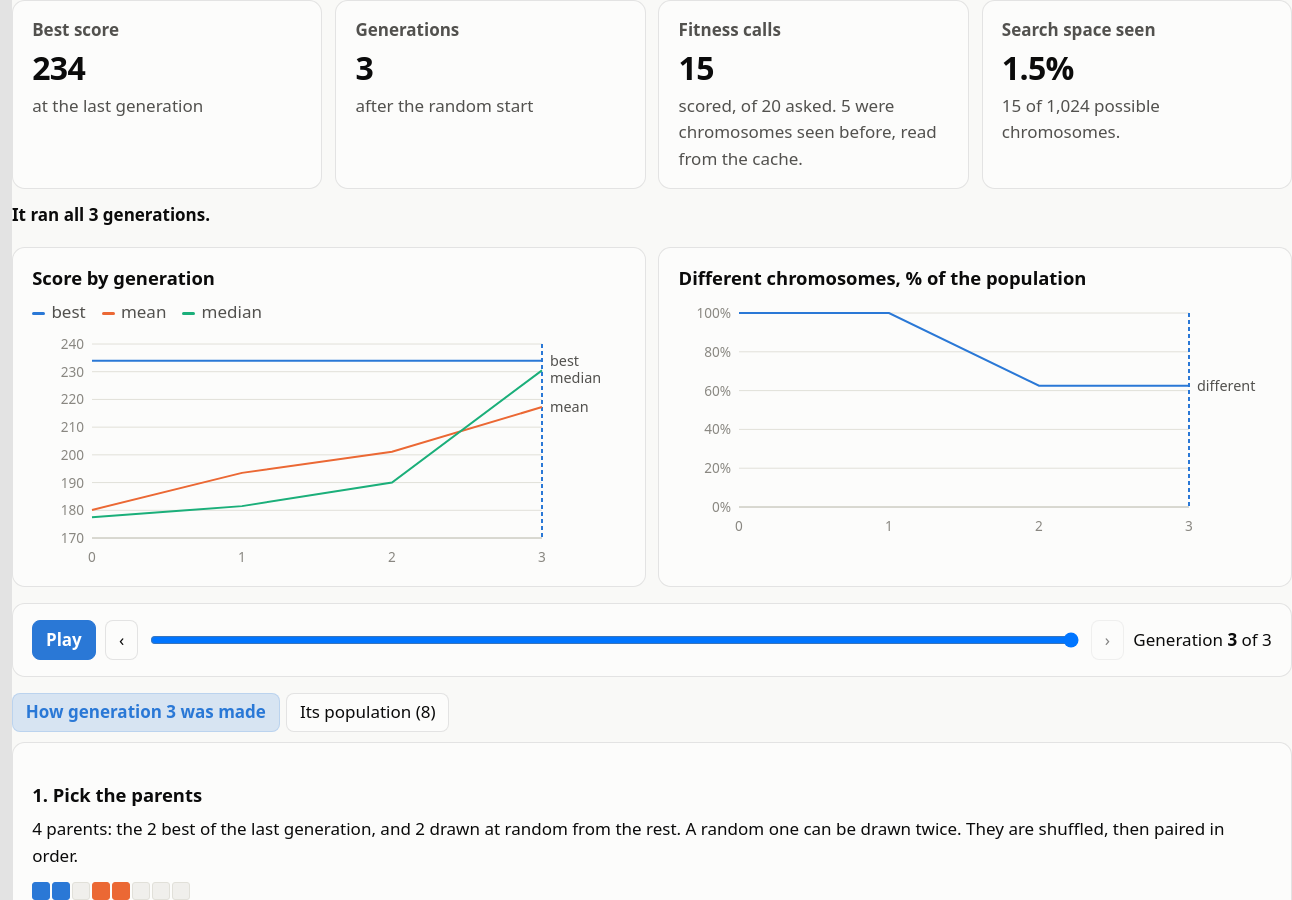
Scenario: RunView › starts on the last generation, and steps with the buttons
The width and height of the screenshot is (1292, 900).
Check: the button named "Next generation" is disabled, box [1091,620,1124,660]
Click the button named "Previous generation": click(122, 640) [105,620,138,660]
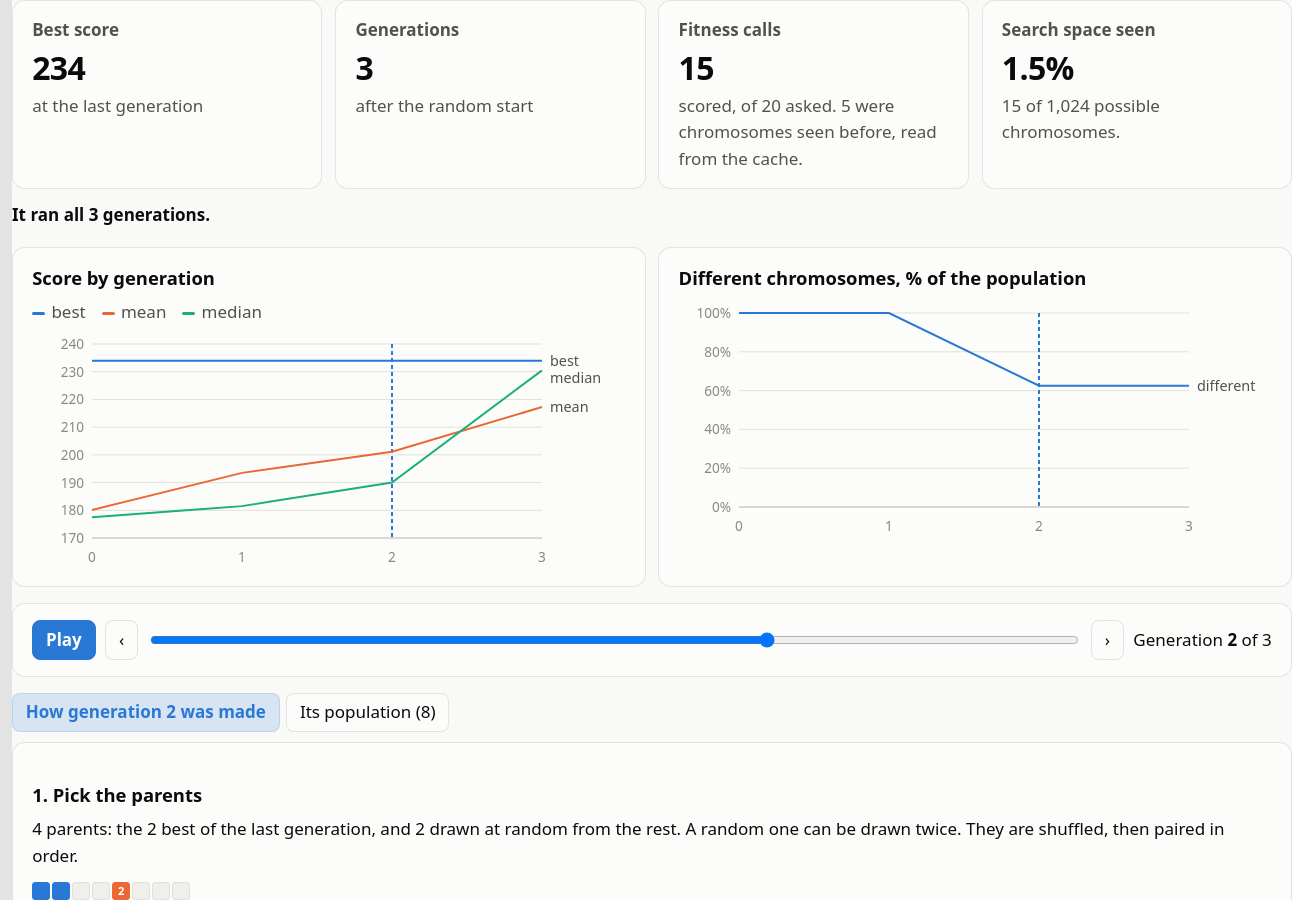
Check: the element with class "gen" reads "Generation 2 of 3", box [1133,627,1272,653]
